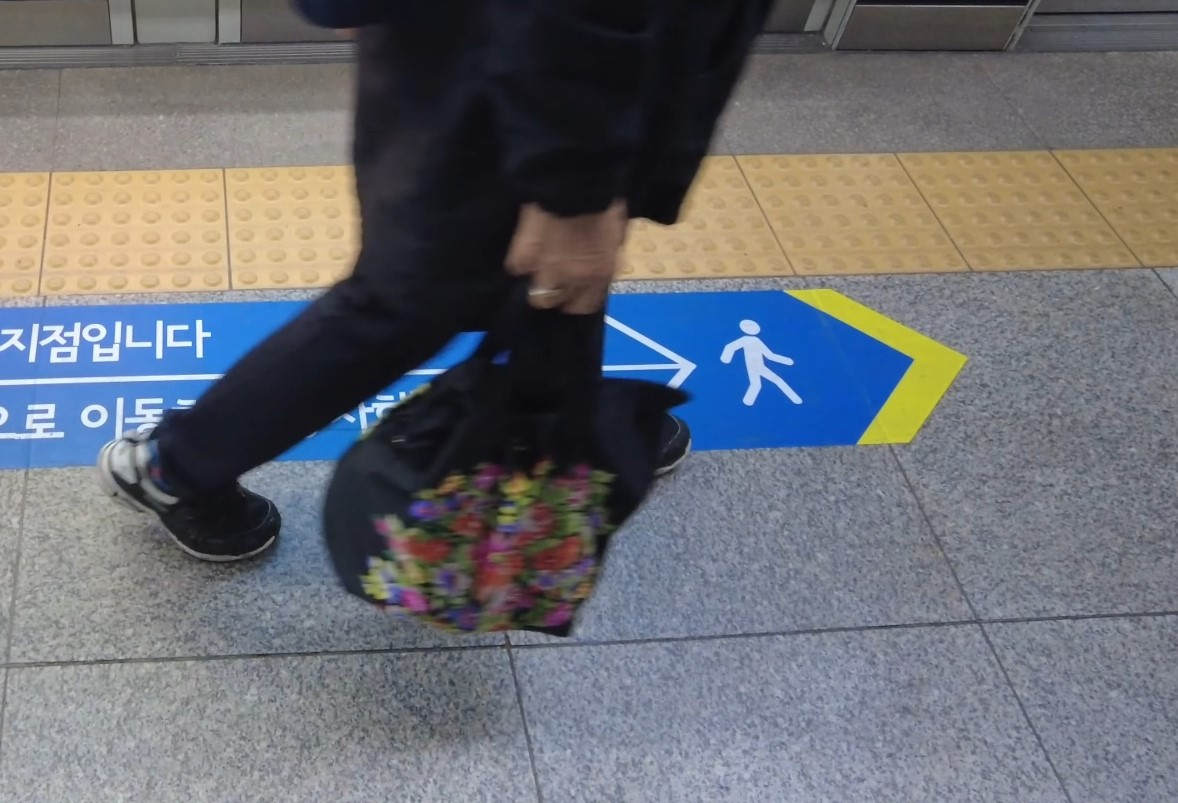warningBlock: (921, 138, 1110, 269), (753, 150, 948, 275), (45, 169, 239, 294), (212, 167, 396, 281), (607, 156, 774, 272), (1065, 124, 1178, 273)
